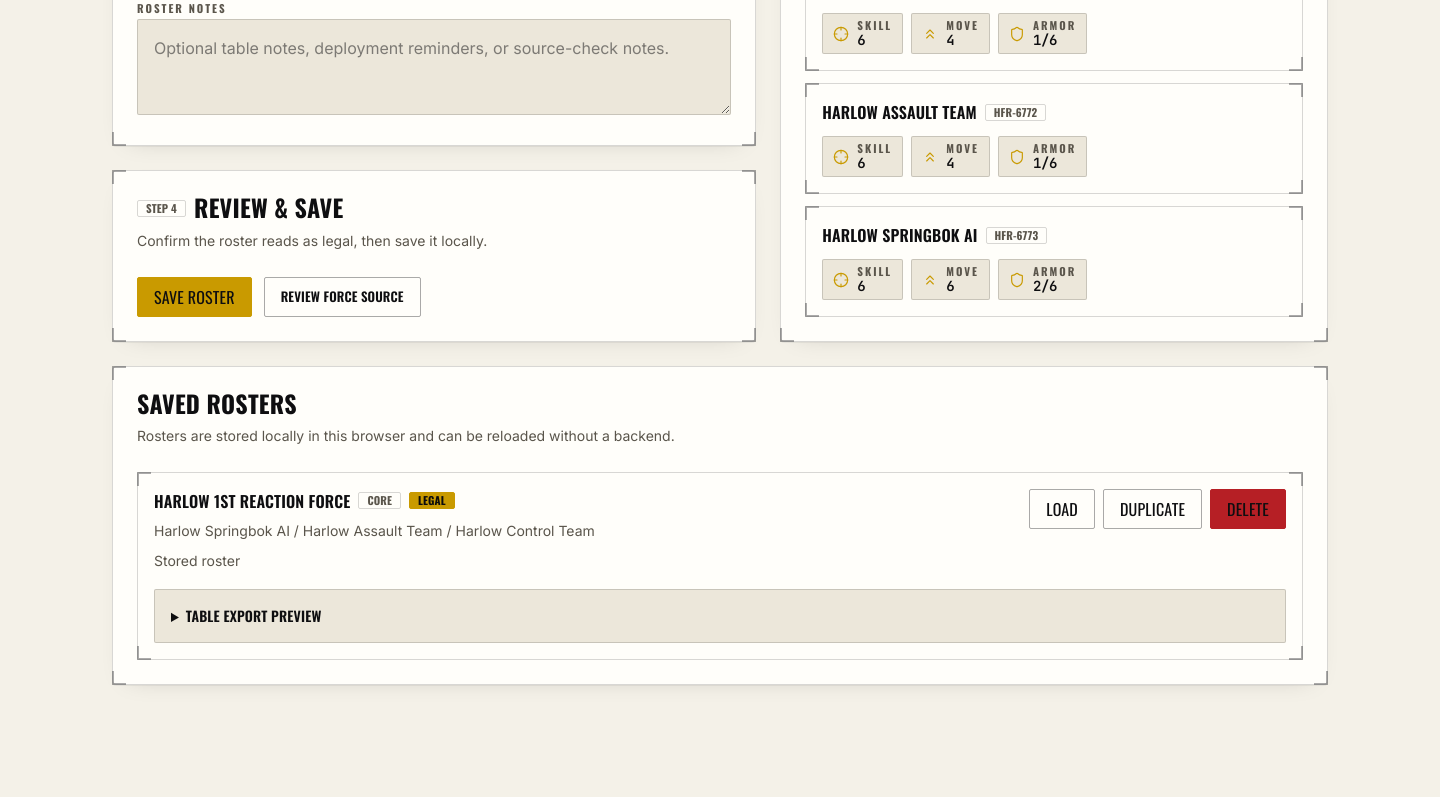
Test case: App smoke test › loads and duplicates saved Harlow rosters
(page scrolled)
Expected: the text "Stored roster" is shown, [154,552,240,569]
What coordinates should you click on to do the following:
click the button "Load"
I would click on:
 (1062, 509)
Its box is [1029,489,1095,529].
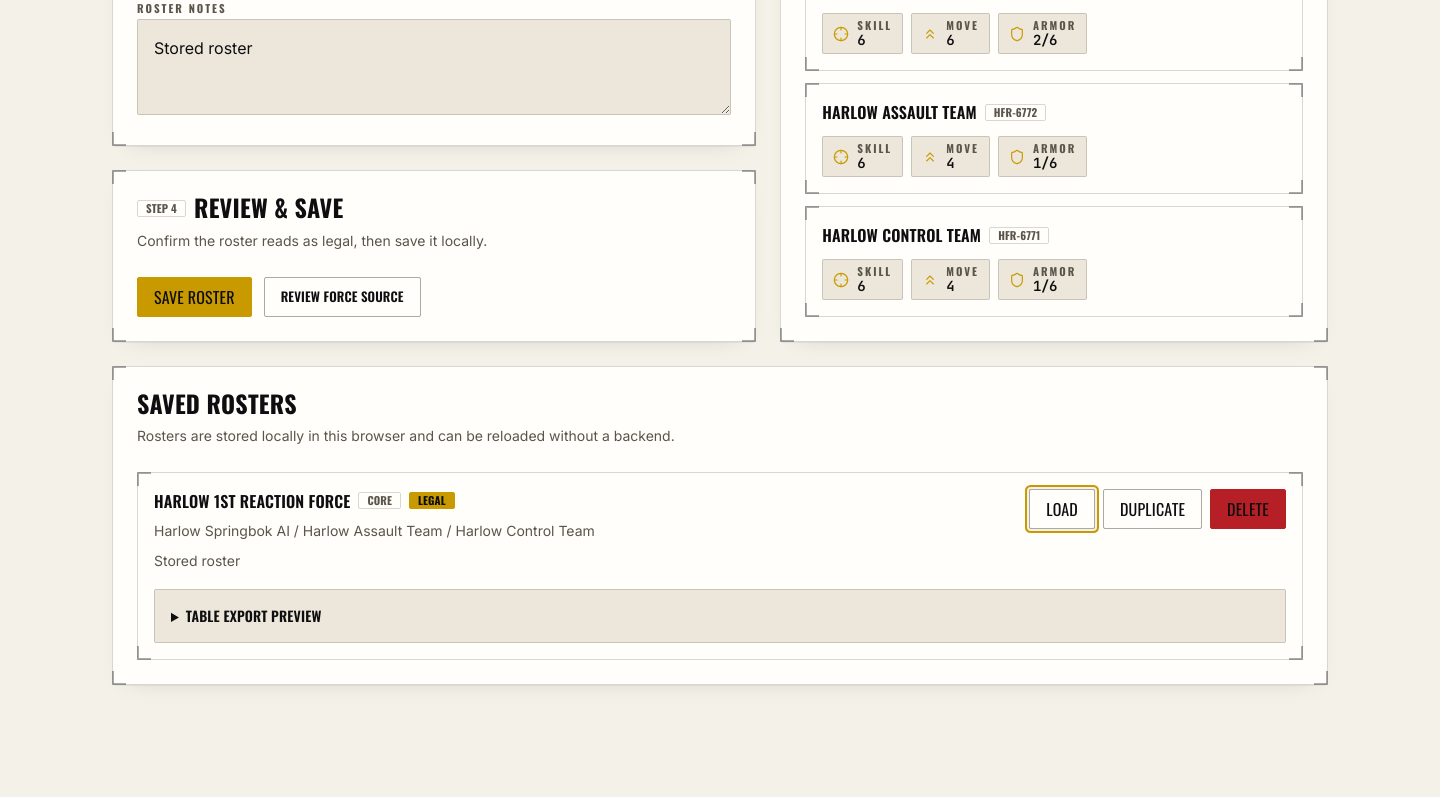
Result: the text box with placeholder "Optional table notes, deployment reminders, or source-check notes." holds "Stored roster" at [137,19,731,115]
What coordinates should you click on to do the following:
click the button "Duplicate"
I would click on:
 (1153, 509)
Its box is [1103,489,1202,529].
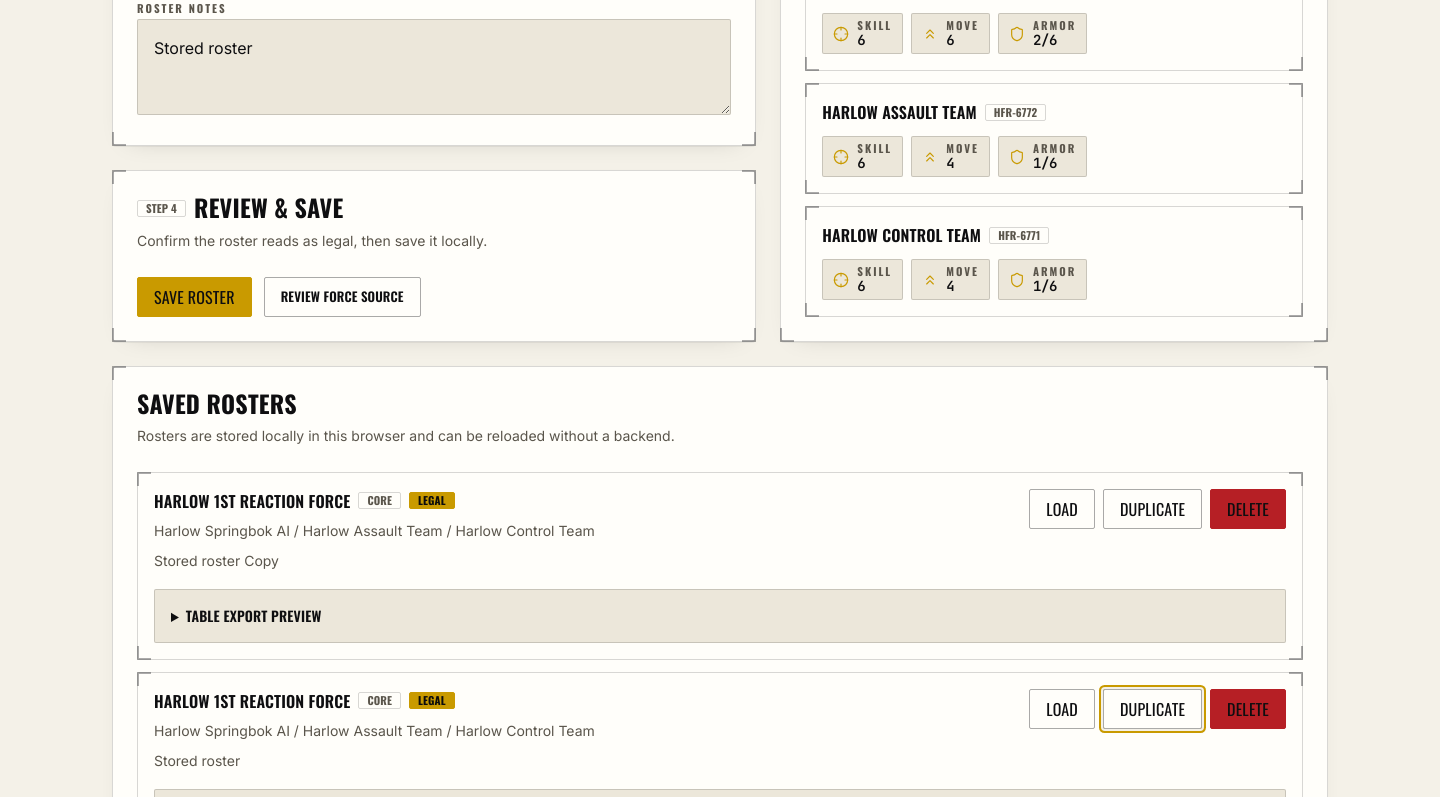
Result: the text "Stored roster Copy" is shown at [154,552,279,569]
